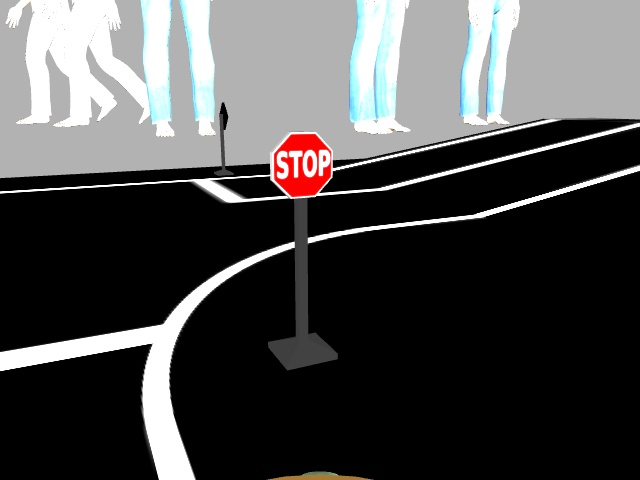Stop: (268, 132, 332, 194)
